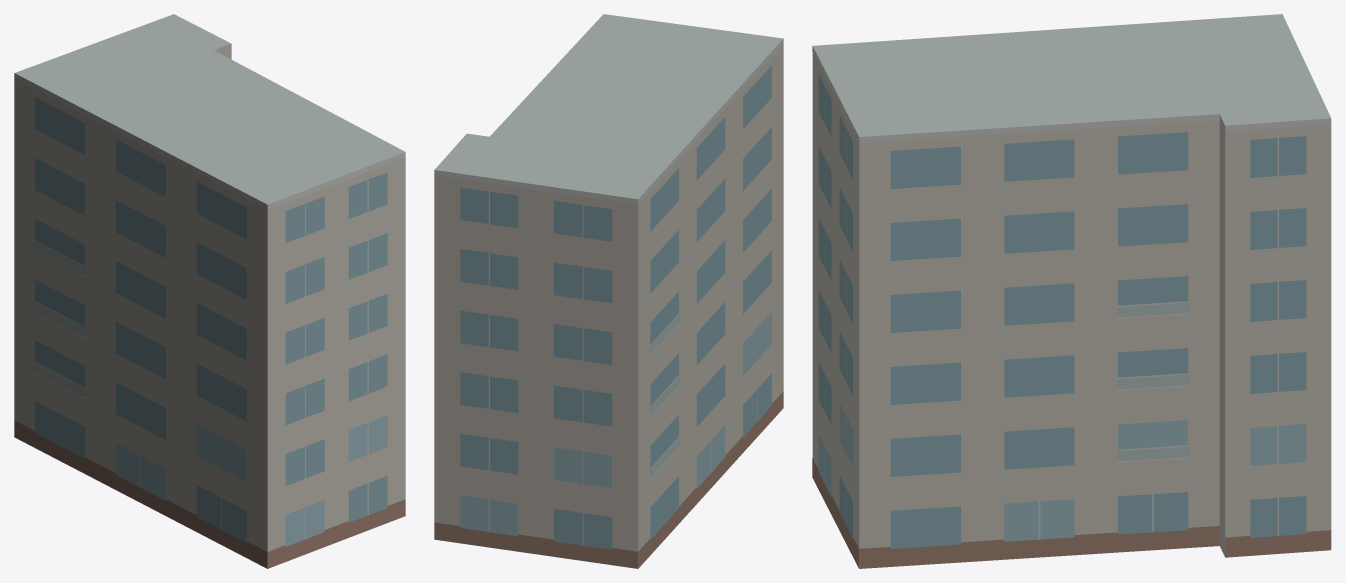
File: survey-upis-33033505.glb
3 renders of one model, left to right at view 1: azimuth 30°, elevation 25°; view 2: azimuth 150°, elevation 25°; view 3: azimuth 270°, elevation 25°, orthographic. The views are drawn at different scales.
Visible parts, largest first — view 1: survey-upis-33033505.tmp; view 2: survey-upis-33033505.tmp; view 3: survey-upis-33033505.tmp.
Part boxes in pixels (x1=…): survey-upis-33033505.tmp: x1=14, y1=14, x2=405, y2=568; survey-upis-33033505.tmp: x1=434, y1=14, x2=783, y2=568; survey-upis-33033505.tmp: x1=812, y1=14, x2=1331, y2=568.
Bounding box in the file's own units: 10.33 × 16.9 × 18.41.
